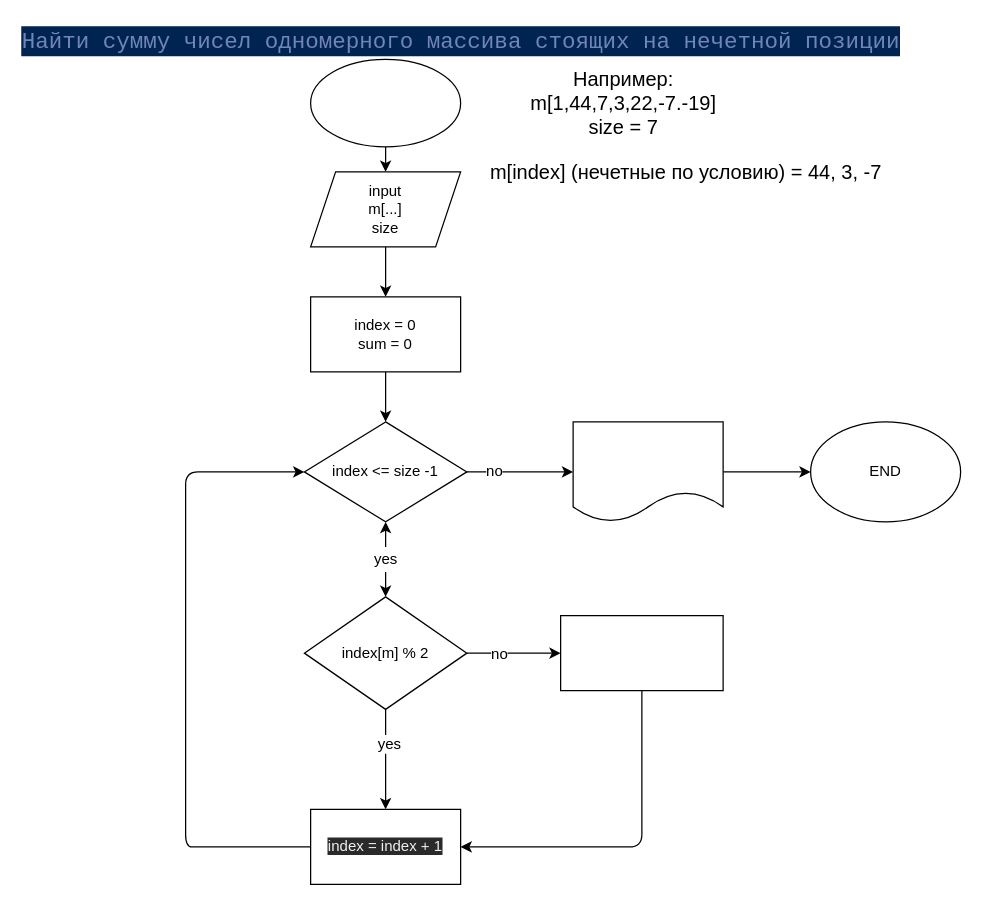
The diagram is 983 pixels wide and 913 high, and some of its shapes have lost their labels. Each missing label, with the box of its shape:
output sum: (572, 421, 723, 522)
Start: (309, 58, 461, 147)
sum = sum + m[index}: (559, 614, 723, 691)
